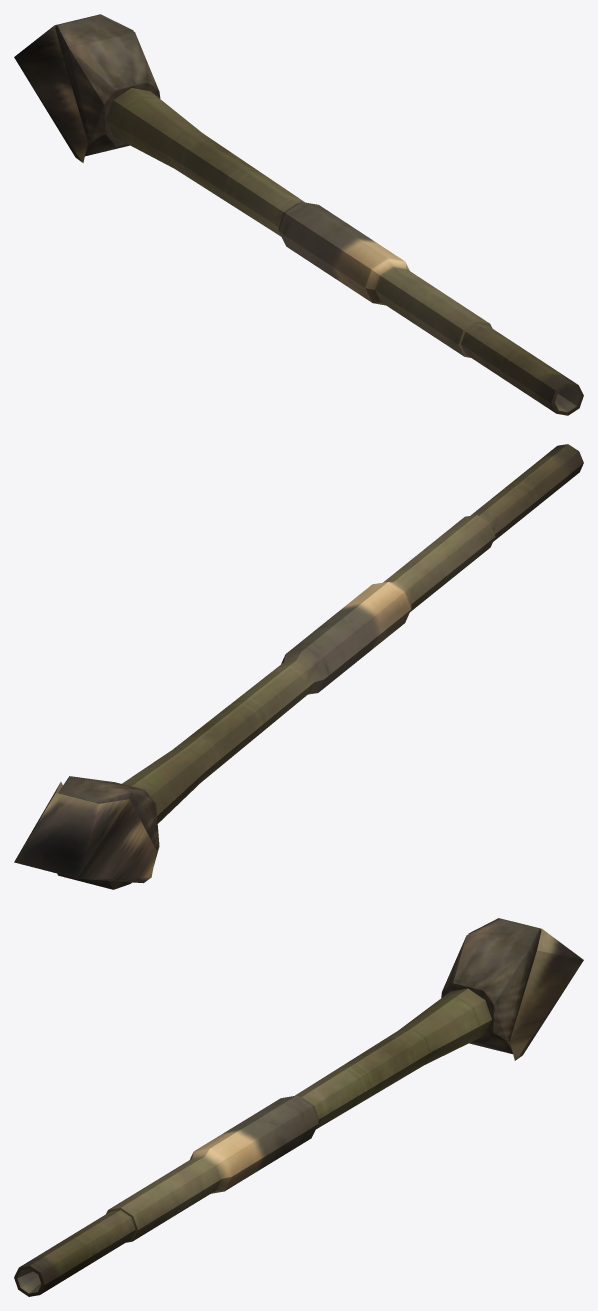
The model's file is gun.fbx.
3 renders of one model, top to bottom at view 1: azimuth 30°, elevation 25°; view 2: azimuth 150°, elevation 25°; view 3: azimuth 330°, elevation 25°, orthographic. The views are drawn at different scales.
Visible parts, largest first — view 1: DrawCall_0161; view 2: DrawCall_0161; view 3: DrawCall_0161.
Part boxes in pixels (x1,y1,x2,y2): DrawCall_0161: (14, 14, 583, 415); DrawCall_0161: (14, 444, 583, 889); DrawCall_0161: (14, 918, 583, 1296).
Bounding box in the file's own units: 0.4762 × 0.6931 × 6.06.
